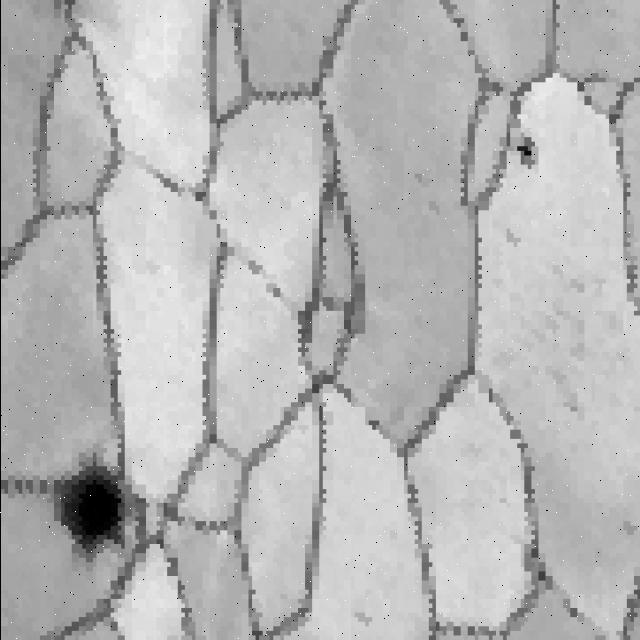good_void: (36, 451, 139, 571), (505, 125, 539, 178), (496, 212, 524, 247), (347, 605, 374, 632)
